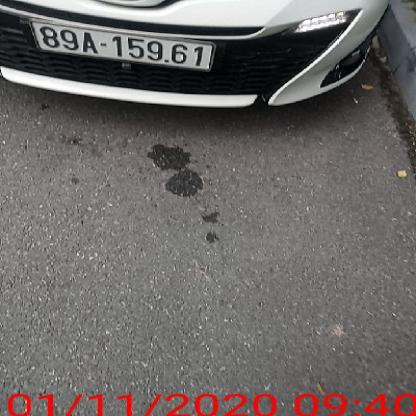biensoxe: (29, 22, 219, 71)
